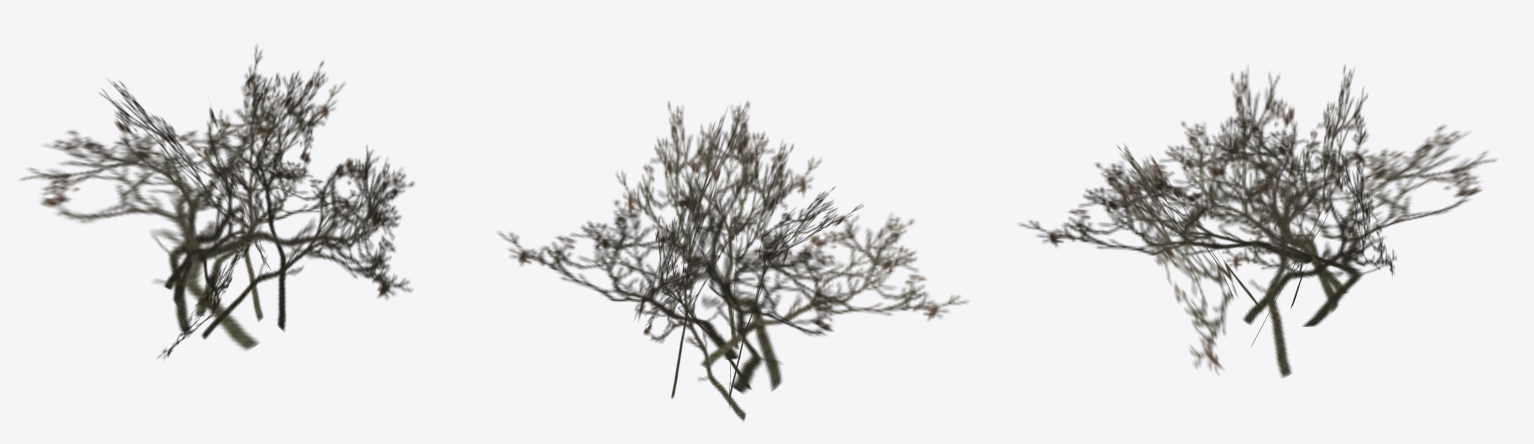
The model's file is wshrub_c.glb.
The picture shows the model from 3 angles, left to right: view 1: azimuth 30°, elevation 25°; view 2: azimuth 150°, elevation 25°; view 3: azimuth 270°, elevation 25°; orthographic projection.
Parts seen in each view (by area): view 1: Winter_Trees_Branches.002; view 2: Winter_Trees_Branches.002; view 3: Winter_Trees_Branches.002.
Part boxes in pixels (x1,y1,x2,y2): Winter_Trees_Branches.002: (20,45,414,358); Winter_Trees_Branches.002: (498,101,967,421); Winter_Trees_Branches.002: (1019,65,1496,377).
Bounding box in the file's own units: 6.02 × 5.89 × 7.17.
1 material, 1 textured.
